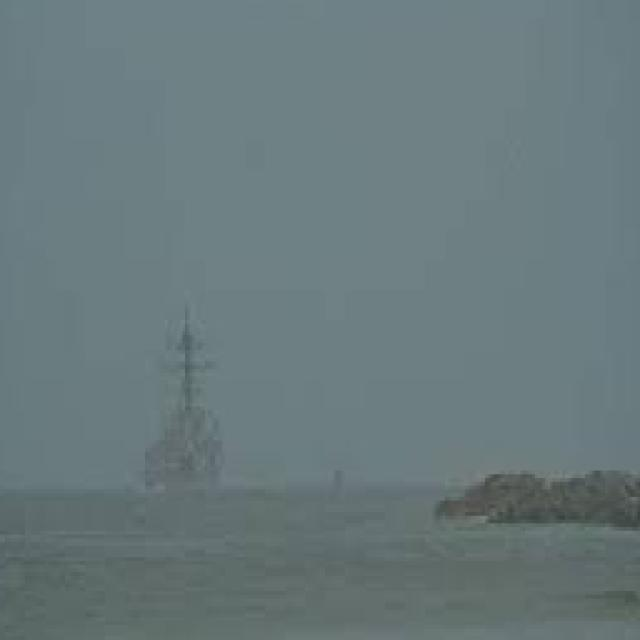fishing boat: (136, 289, 239, 499)
